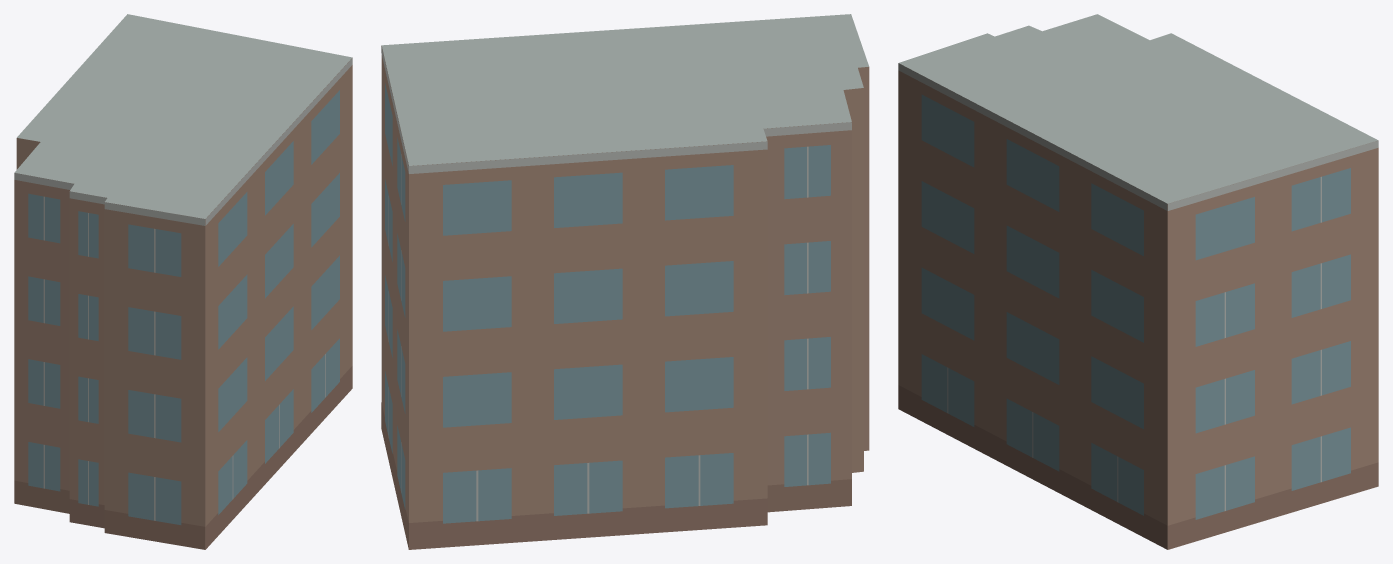
File: survey-upis-32956816.glb
3 renders of one model, left to right at view 1: azimuth 30°, elevation 25°; view 2: azimuth 150°, elevation 25°; view 3: azimuth 270°, elevation 25°, orthographic. The views are drawn at different scales.
Parts seen in each view (by area): view 1: survey-upis-32956816.tmp; view 2: survey-upis-32956816.tmp; view 3: survey-upis-32956816.tmp.
Boxes of the visible parts, left/top/right/bottom form: survey-upis-32956816.tmp: left=14, top=14, right=352, bottom=549; survey-upis-32956816.tmp: left=381, top=14, right=869, bottom=549; survey-upis-32956816.tmp: left=898, top=14, right=1378, bottom=549.
Size of the model in its own units: 13.53 by 11.5 by 14.47.
